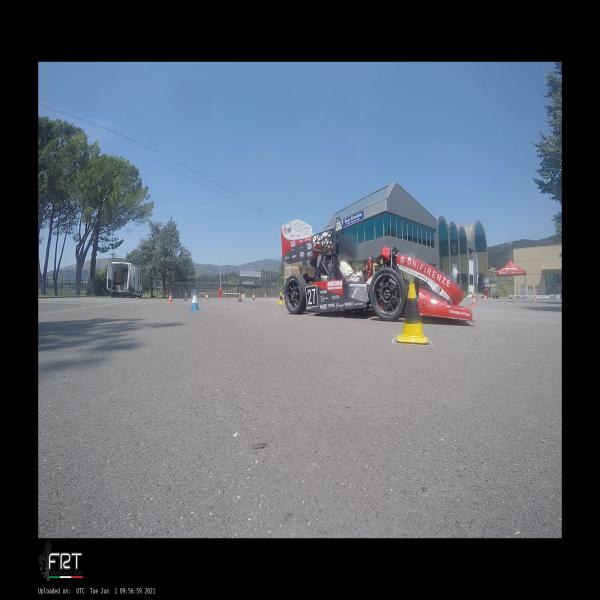blue_cone: (189, 290, 201, 310)
large_orange_cone: (238, 291, 242, 302)
orange_cone: (470, 294, 477, 306), (168, 293, 173, 303), (482, 295, 486, 302), (533, 296, 537, 303), (206, 293, 209, 299)
unknown_cone: (183, 293, 188, 301)
yellow_cone: (397, 282, 429, 345), (278, 292, 284, 304)
